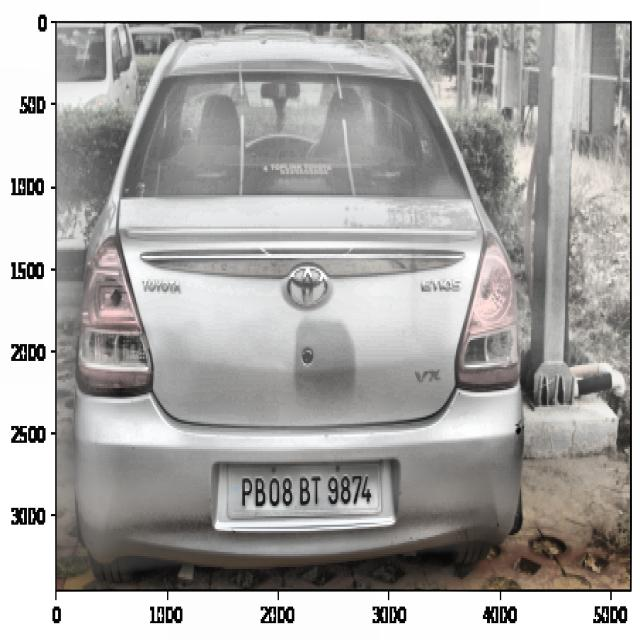license_plate: (233, 461, 376, 515)
